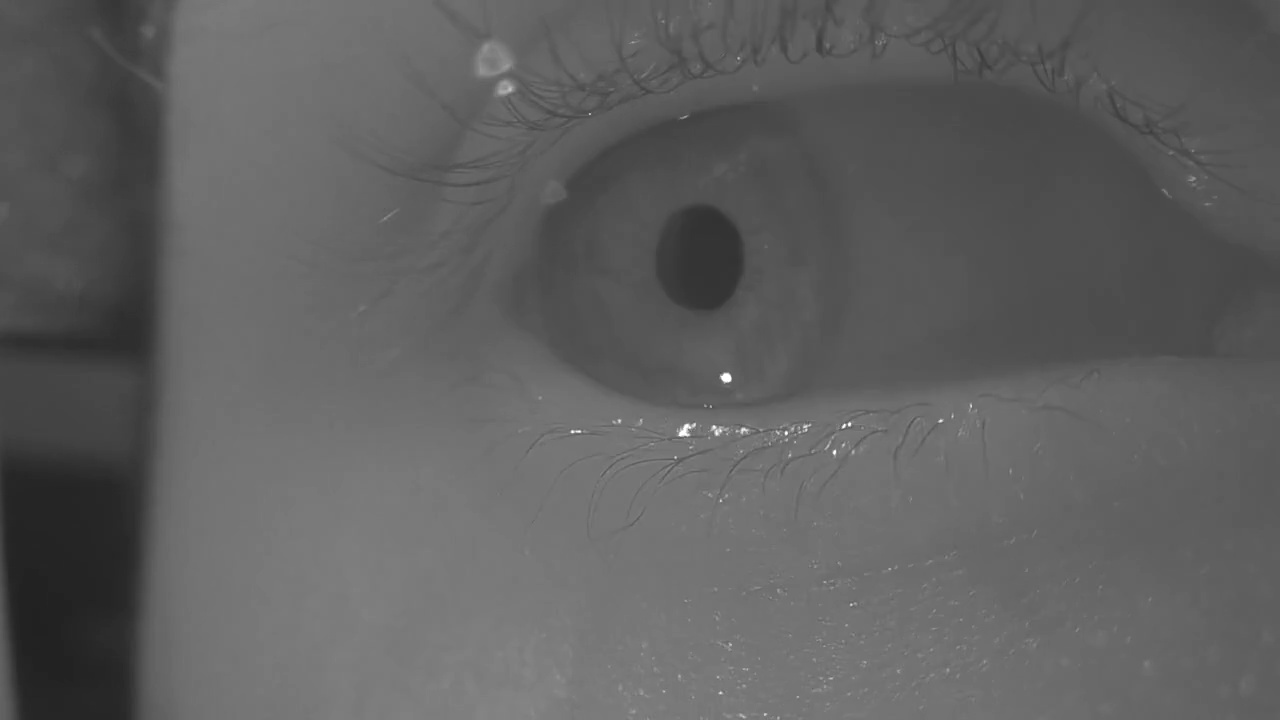pupil: (656, 205, 744, 311)
